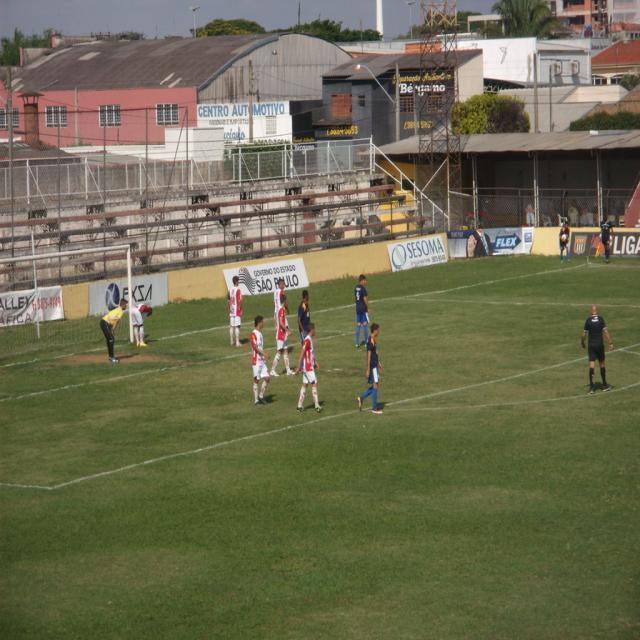ball: (562, 233, 567, 241)
